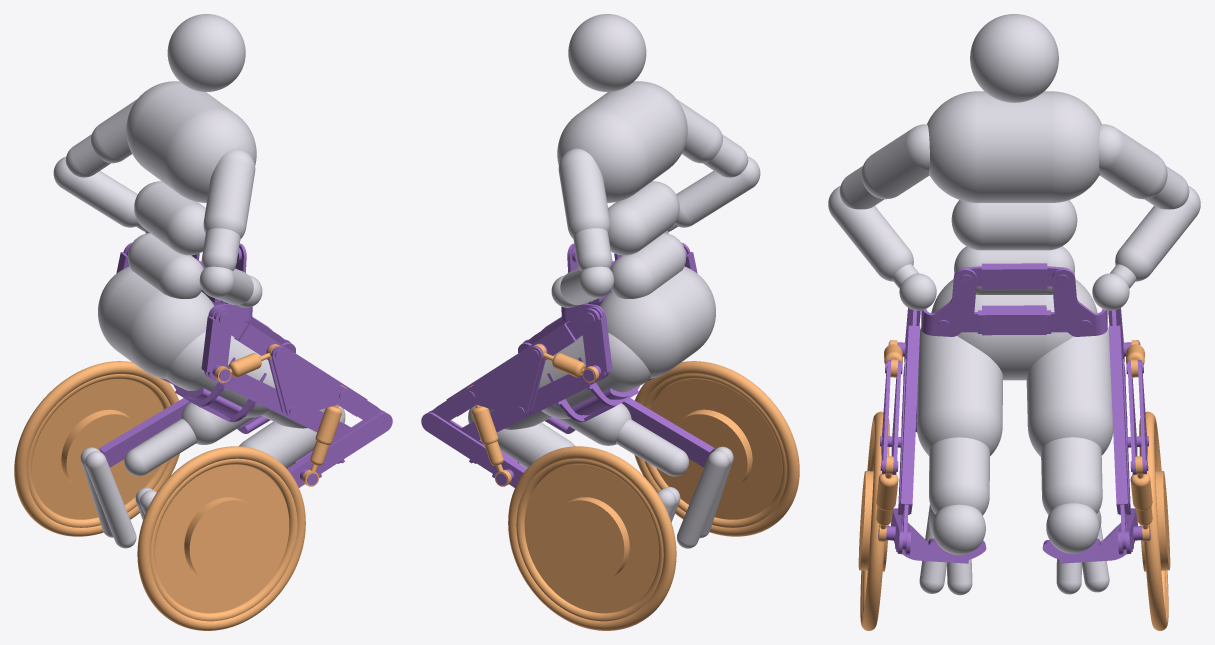
File: vtb0.glb
3 renders of one model, left to right at view 1: azimuth 30°, elevation 25°; view 2: azimuth 150°, elevation 25°; view 3: azimuth 270°, elevation 25°, orthographic. The views are drawn at different scales.
Visible parts, largest first — view 1: wheel_R, wheel_L, torso, but, head, waist_upper, triangle_L, upper_right_arm, 4bar-leg_mid_R, waist_lower, thigh_right, lwer_arm_left (+16 smaller); view 2: wheel_L, wheel_R, torso, but, head, waist_upper, triangle_L, upper_arm_left, 4bar-leg_mid_L, waist_lower, thigh_left, lower_arm_right (+16 smaller); view 3: torso, thigh_right, thigh_left, head, waist_upper, but, thigh_distal_right, thigh_distal_left, wheel_L, wheel_R, upper_arm_left, upper_right_arm (+24 smaller).
Part boxes in pixels (box(x1,y1,x2,y2)): wheel_R: box(137, 446, 305, 630); wheel_L: box(14, 361, 179, 536); torso: box(126, 81, 256, 202); but: box(98, 266, 214, 379); head: box(167, 14, 245, 91); waist_upper: box(134, 181, 205, 255); triangle_L: box(266, 343, 349, 417); upper_right_arm: box(203, 148, 255, 238); 4bar-leg_mid_R: box(173, 357, 353, 440); waist_lower: box(127, 233, 203, 298); thigh_right: box(165, 331, 275, 417); lwer_arm_left: box(53, 156, 138, 227); wheel_L: box(508, 446, 676, 630); wheel_R: box(634, 361, 799, 536); torso: box(557, 81, 687, 202); but: box(599, 266, 715, 378); head: box(568, 14, 646, 91); waist_upper: box(608, 181, 679, 255); triangle_L: box(464, 343, 547, 417); upper_arm_left: box(558, 148, 610, 238); 4bar-leg_mid_L: box(460, 357, 639, 440); waist_lower: box(610, 233, 686, 298); thigh_left: box(538, 333, 650, 418); lower_arm_right: box(675, 156, 760, 227); torso: box(927, 91, 1101, 202); thigh_right: box(916, 328, 1002, 455); thigh_left: box(1026, 328, 1113, 456); head: box(970, 14, 1058, 102); waist_upper: box(951, 200, 1077, 250); but: box(931, 279, 1097, 380); thigh_distal_right: box(929, 437, 989, 515); thigh_distal_left: box(1041, 437, 1102, 514); wheel_L: box(1139, 411, 1170, 630); wheel_R: box(858, 411, 889, 630); upper_arm_left: box(1099, 124, 1167, 199); upper_right_arm: box(861, 124, 929, 199).
Size of the model in its own units: 0.7487 by 1.49 by 0.8008.
